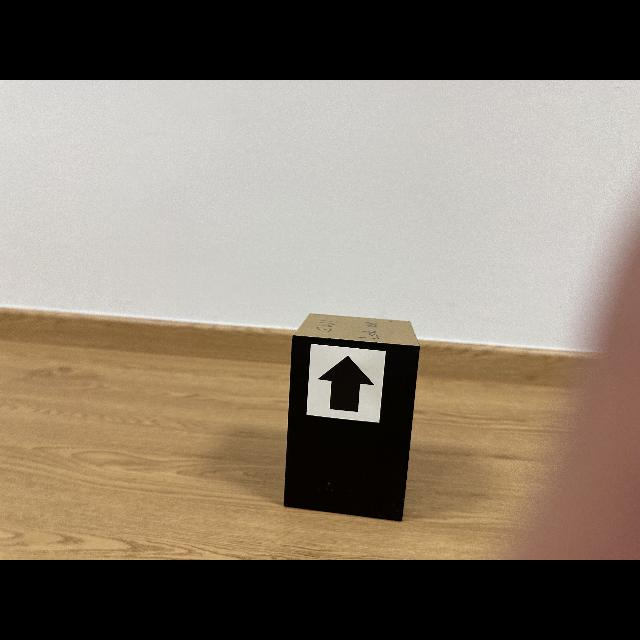UP: (319, 356, 374, 411)
